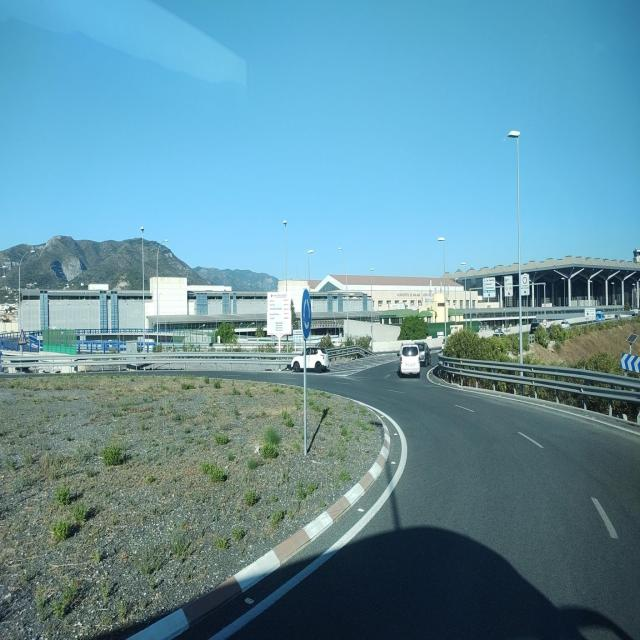car: (286, 344, 331, 373), (398, 344, 421, 377), (415, 341, 431, 367), (136, 338, 157, 352)
